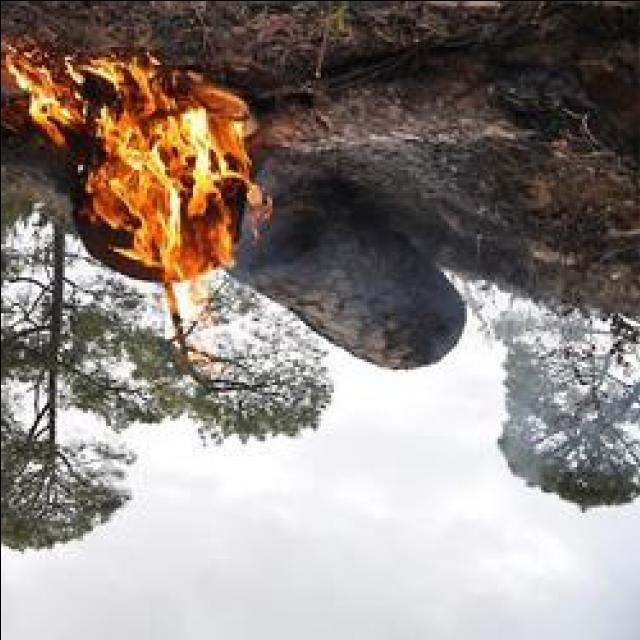fire: (98, 71, 250, 268)
